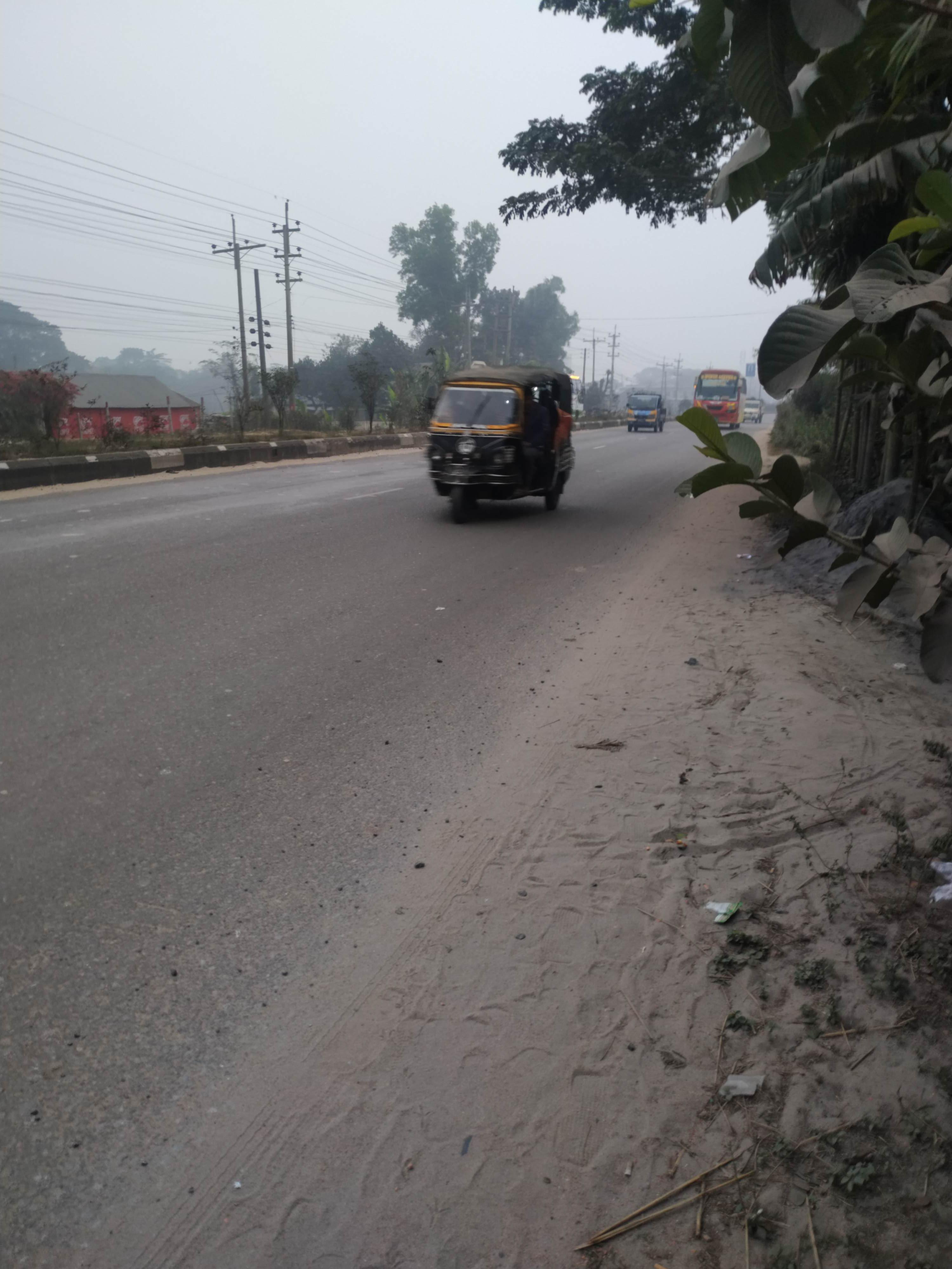Bus: (687, 361, 757, 444)
Truck: (616, 386, 684, 445)
